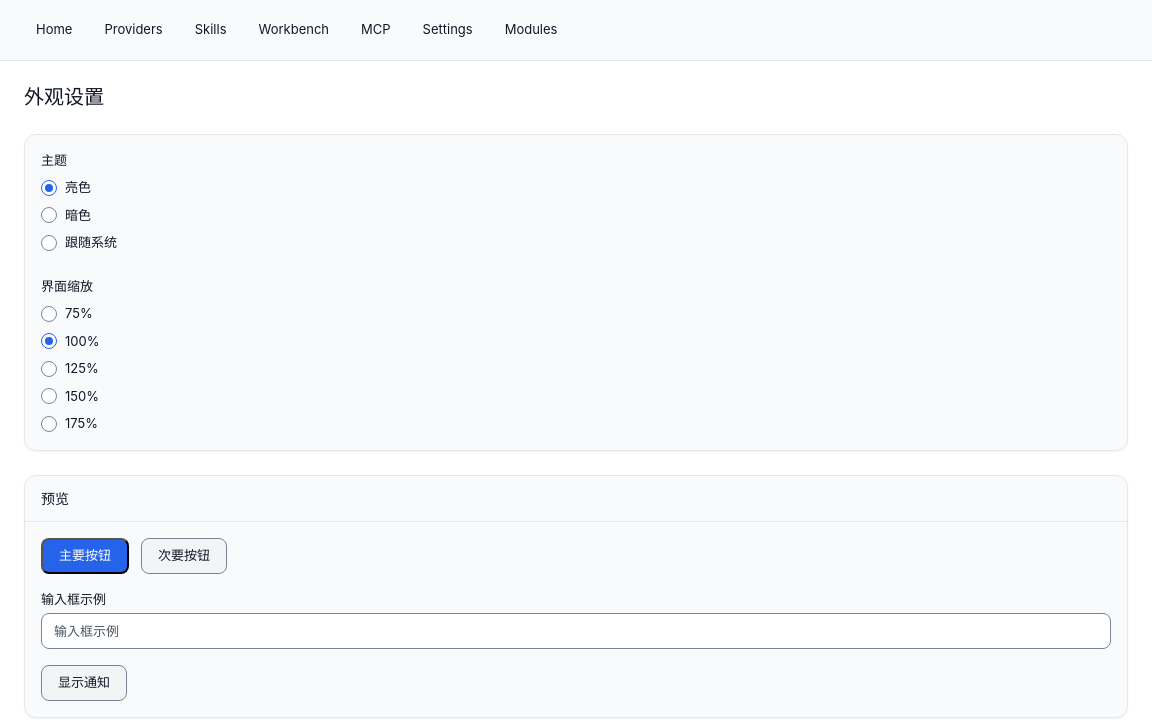
AC12 theme › puts the control back on the confirmed theme after a failed save, with one Toast and no leaked detail
This screenshot has width=1152, height=720.
Expected: the heading "外观设置" is shown, [24, 84, 104, 108]
Click the radio button named "暗色" next to "暗色". click: (49, 215)
box: [41, 207, 57, 223]
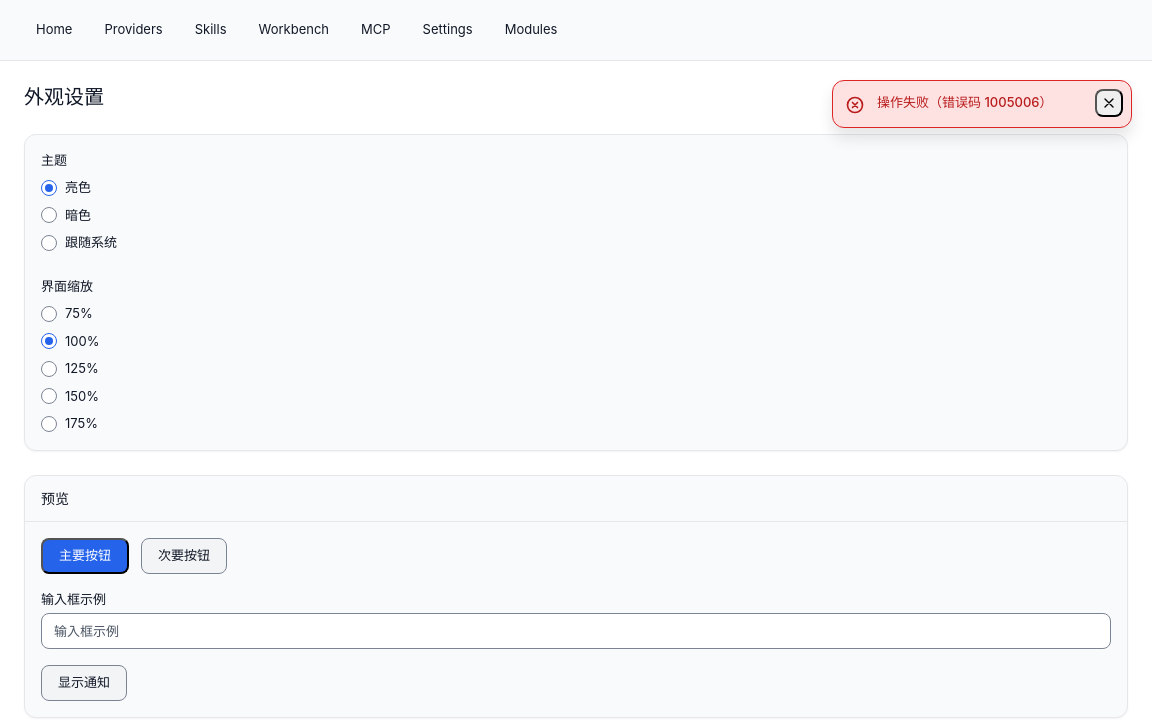
Result: the text "操作失败（错误码 1005006）" is shown once at [877, 94, 1052, 110]
